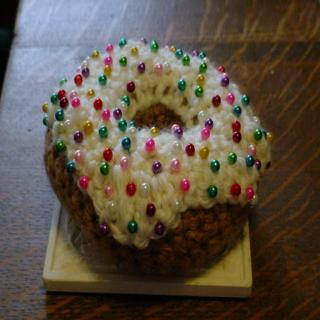Doughnut: (42, 36, 274, 275)
